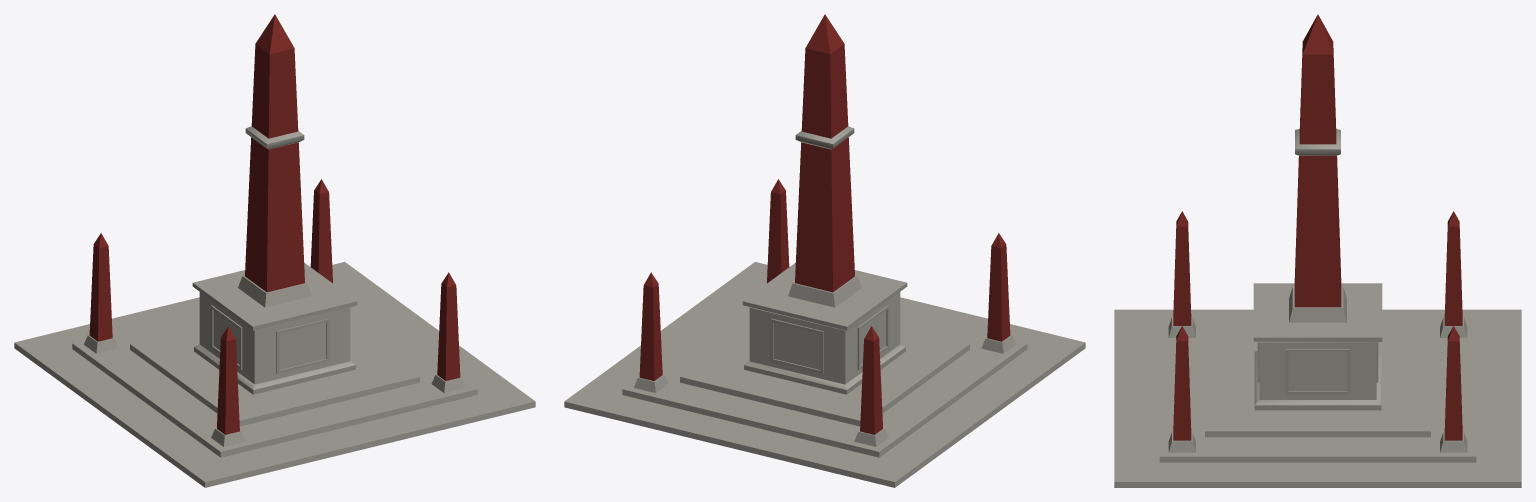
File: Monument8.fbx
The picture shows the model from 3 angles, left to right: view 1: azimuth 30°, elevation 25°; view 2: azimuth 150°, elevation 25°; view 3: azimuth 270°, elevation 25°; orthographic projection. The views are drawn at different scales.
Visible parts, largest first — view 1: Monument8; view 2: Monument8; view 3: Monument8.
Part boxes in pixels (left/top/right/bottom): Monument8: left=14, top=14, right=535, bottom=487; Monument8: left=564, top=14, right=1085, bottom=487; Monument8: left=1114, top=14, right=1521, bottom=487.
Size of the model in its own units: 9 by 9.46 by 9.
